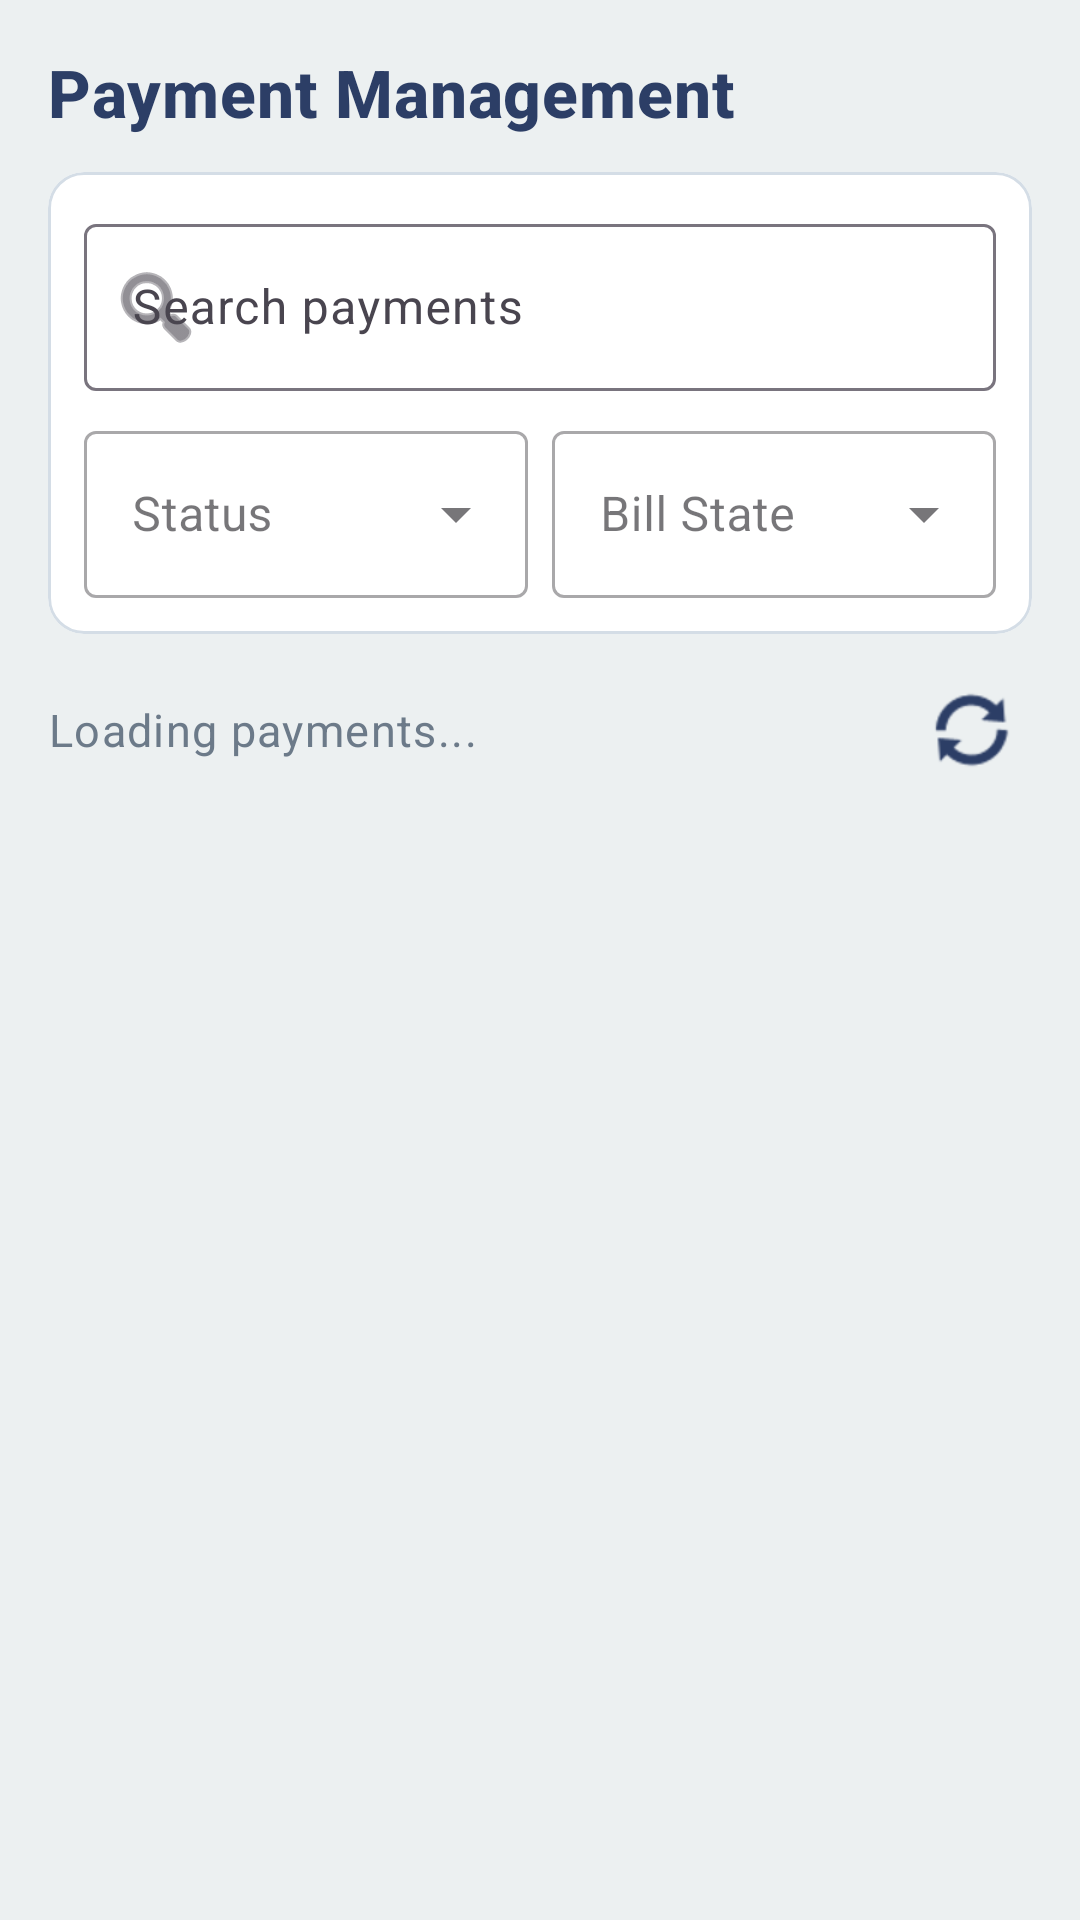

Where icons sit on this 1080w x 1920h app screen, as (x1, y1, x2, y2):
popup sync: (935, 694, 1008, 766)
